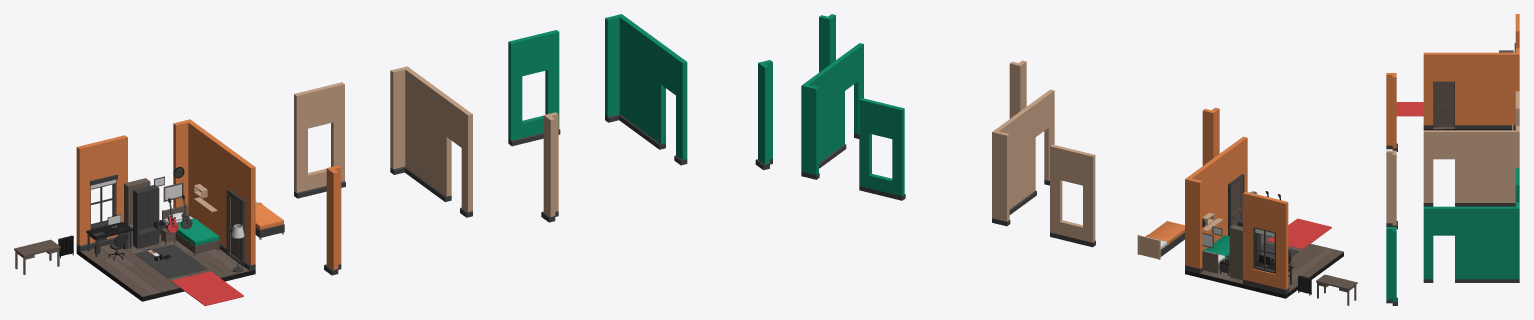
File: bedroom.FBX
The picture shows the model from 3 angles, left to right: view 1: azimuth 30°, elevation 25°; view 2: azimuth 150°, elevation 25°; view 3: azimuth 270°, elevation 25°; orthographic projection. The views are drawn at different scales.
Visible parts, largest first — view 1: wall_windowgreen, wall_windowbr, floor, wall_window_orange, wall0_br, wall_green, wall_doorgreen, wall_doorbr, wall_orange, wall_cornerbr1, wall_doororange, wall_cornegreen1 (+14 smaller); view 2: wall_windowgreen, wall_windowbr, wall_window_orange, wall_green, wall0_br, wall_doorbr, wall_cornegreen1, wall_cornerbr1, wall_cornerorange1, wall_doorgreen, floor, wall_orange (+12 smaller); view 3: wall0_br, wall_orange, wall_green, wall_doorbr, wall_doororange, wall_doorgreen, wall_cornegreen1, wall_cornerorange1, wall_cornerbr1, door, wall_cornergreen, wall_corner2 (+6 smaller).
Boxes of the visible parts, x1=… form: wall_windowgreen: x1=508, y1=30, x2=560, y2=146; wall_windowbr: x1=294, y1=82, x2=345, y2=198; floor: x1=77, y1=235, x2=254, y2=297; wall_window_orange: x1=76, y1=135, x2=127, y2=251; wall0_br: x1=410, y1=73, x2=444, y2=196; wall_green: x1=625, y1=21, x2=658, y2=144; wall_doorgreen: x1=653, y1=41, x2=687, y2=165; wall_doorbr: x1=438, y1=94, x2=472, y2=217; wall_orange: x1=195, y1=126, x2=227, y2=249; wall_cornerbr1: x1=390, y1=66, x2=416, y2=176; wall_doororange: x1=221, y1=147, x2=255, y2=270; wall_cornegreen1: x1=605, y1=14, x2=630, y2=124; wall_windowgreen: x1=859, y1=98, x2=905, y2=200; wall_windowbr: x1=1050, y1=144, x2=1095, y2=247; wall_window_orange: x1=1243, y1=191, x2=1288, y2=294; wall_green: x1=810, y1=61, x2=840, y2=168; wall0_br: x1=1001, y1=107, x2=1030, y2=214; wall_doorbr: x1=1026, y1=89, x2=1054, y2=199; wall_cornegreen1: x1=801, y1=79, x2=819, y2=179; wall_cornerbr1: x1=992, y1=126, x2=1010, y2=226; wall_cornerorange1: x1=1185, y1=173, x2=1203, y2=273; wall_doorgreen: x1=835, y1=43, x2=863, y2=152; floor: x1=1185, y1=234, x2=1343, y2=294; wall_orange: x1=1194, y1=154, x2=1222, y2=250; wall0_br: x1=1464, y1=130, x2=1505, y2=206; wall_orange: x1=1464, y1=52, x2=1505, y2=128; wall_green: x1=1464, y1=206, x2=1505, y2=282; wall_doorbr: x1=1423, y1=130, x2=1464, y2=206; wall_doororange: x1=1423, y1=52, x2=1464, y2=128; wall_doorgreen: x1=1423, y1=206, x2=1464, y2=282; wall_cornegreen1: x1=1505, y1=202, x2=1519, y2=282; wall_cornerorange1: x1=1505, y1=48, x2=1519, y2=128; wall_cornerbr1: x1=1505, y1=126, x2=1519, y2=206; door: x1=1434, y1=81, x2=1454, y2=127; wall_cornergreen: x1=1386, y1=227, x2=1397, y2=305; wall_corner2: x1=1386, y1=73, x2=1397, y2=151.
Size of the model in its own units: 2099 by 317 by 490.
1 material, 1 textured.
